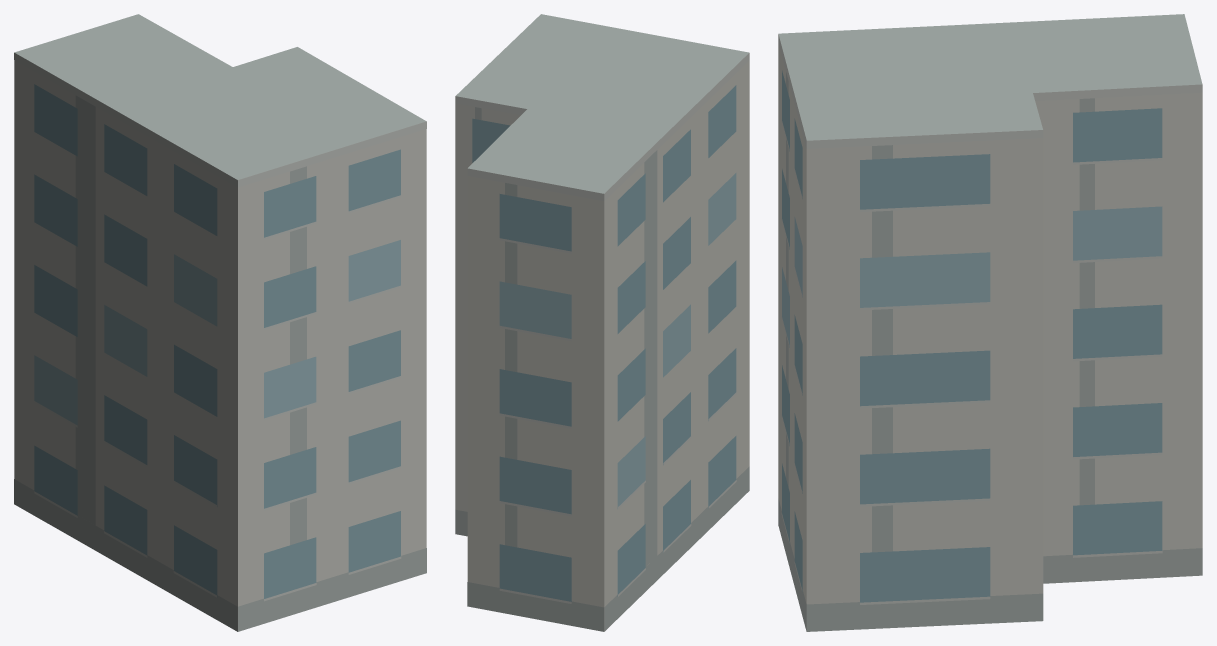
Rendered from survey-upis-32482017.glb.
3 renders of one model, left to right at view 1: azimuth 30°, elevation 25°; view 2: azimuth 150°, elevation 25°; view 3: azimuth 270°, elevation 25°, orthographic. The views are drawn at different scales.
Visible parts, largest first — view 1: survey-upis-32482017.tmp; view 2: survey-upis-32482017.tmp; view 3: survey-upis-32482017.tmp.
Boxes of the visible parts, x1,y1,x2,y2 form: survey-upis-32482017.tmp: (14,14,426,631); survey-upis-32482017.tmp: (455,14,749,631); survey-upis-32482017.tmp: (778,14,1202,631).
Bounding box in the file's own units: 7.98 × 14.4 × 11.28.
